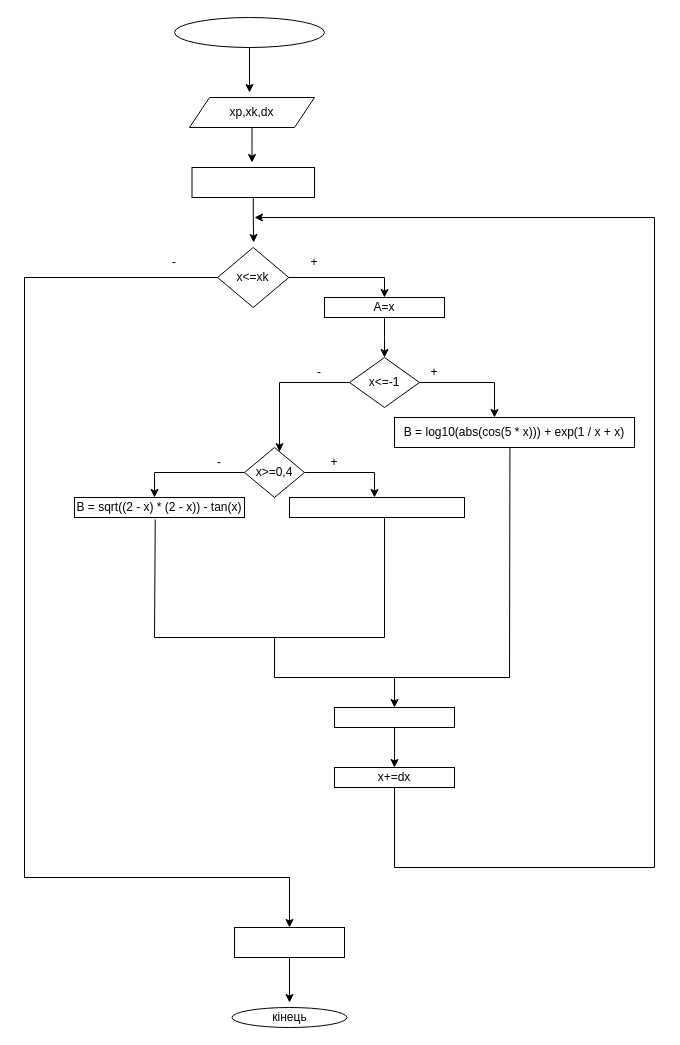
Some shapes in this 680 by 1045 pixel diagram are drawn without their labels. Here are the shapes that lost their labels. From the top down, the centre of each, then its label:
At (x=249, y=32): "початок".
At (x=252, y=182): "x=xp".
At (x=376, y=507): "B = sin(5 * x) - sqrt(abs(1 - x))".
At (x=394, y=717): "y=A+B".
At (x=289, y=942): "x,y".
